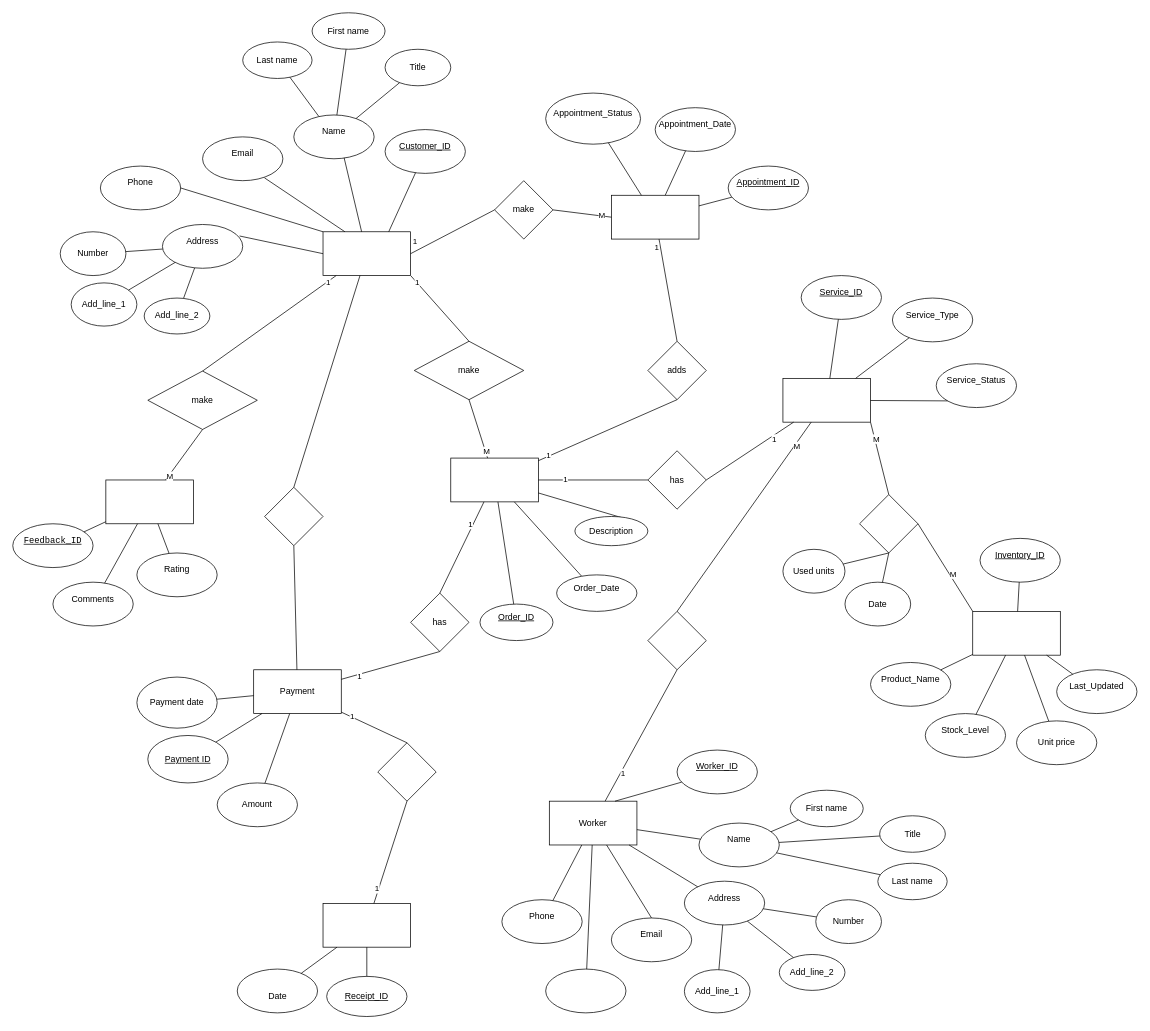
Image size: 1150x1031. Some labels were removed from this diagram. The shapes that lost their labels are listed below. From the top down, each one's centre as x and y in pixels, then its label:
At point 655,217: "Appointment".
At point 366,253: "Customer".
At point 826,400: "Service".
At point 494,479: "Order".
At point 149,501: "Feedback".
At point 293,516: "Makes".
At point 888,523: "use".
At point 676,640: "do".
At point 1016,633: "Inventory".
At point 406,771: "generates".
At point 366,925: "Receipt".
At point 585,990: "Role".
